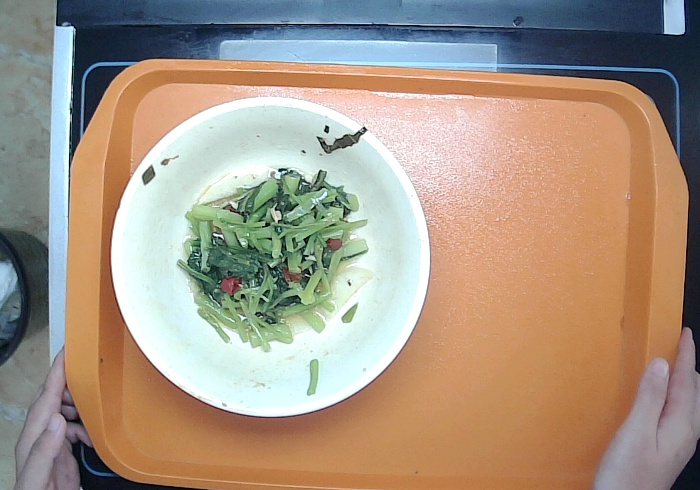ZNLD-Da_Tang_Wan: (109, 89, 438, 423)
